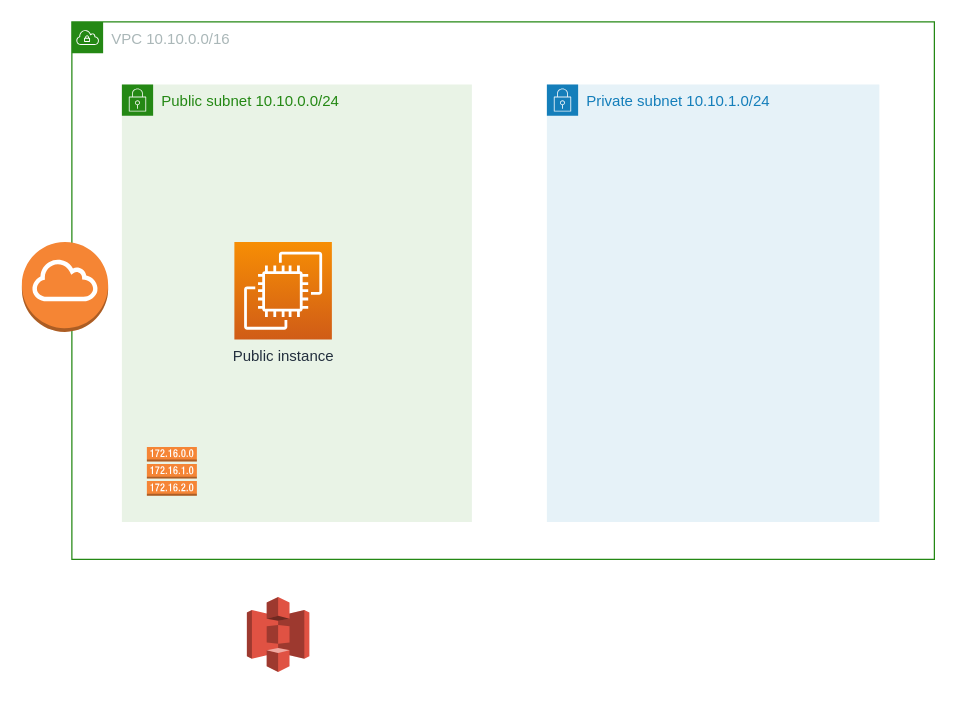
Some shapes in this 956 by 724 pixel diagram are drawn without their labels. Here are the shapes that lost their labels. From the top down, the centre of each, then its label:
the point at 171,471: Public CRT
the point at 277,634: cerberus-7ct7437p
